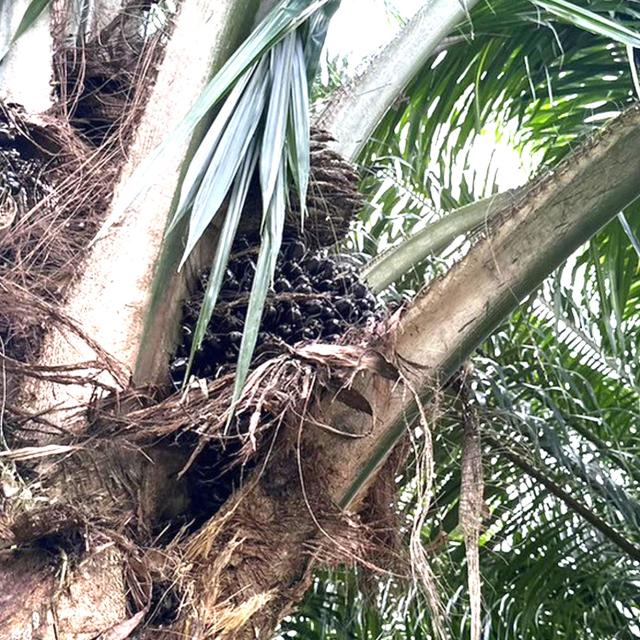unripe: (171, 246, 399, 494)
